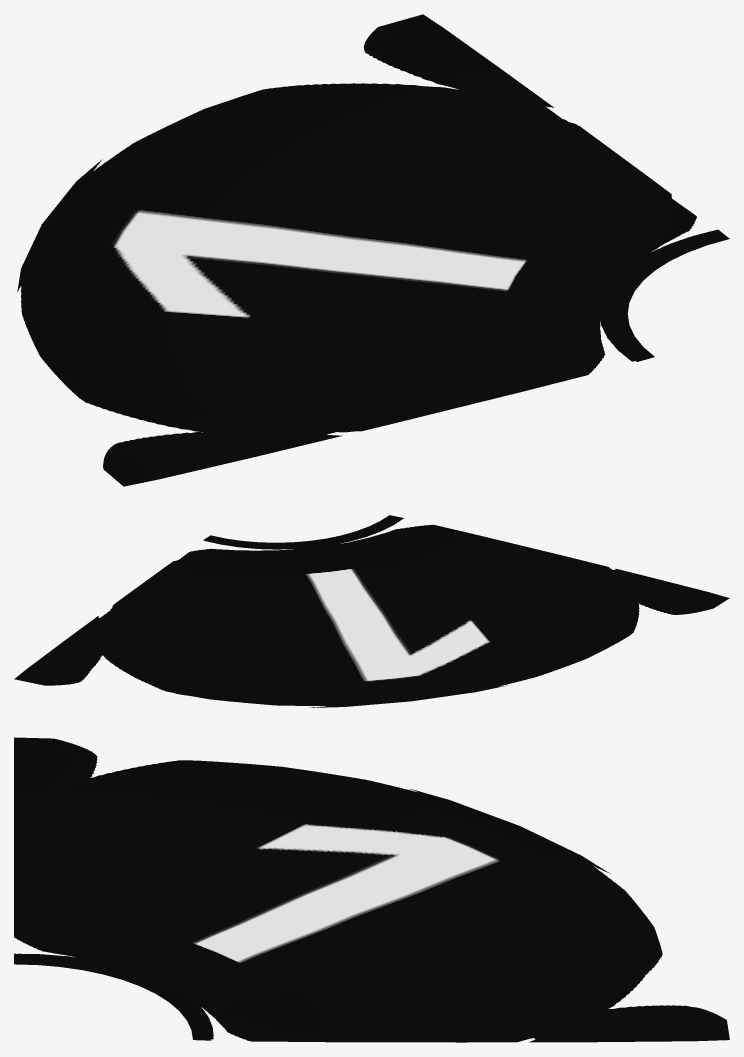
Rendered from Menu_1.fbx.
The picture shows the model from 3 angles, top to bottom: view 1: azimuth 30°, elevation 25°; view 2: azimuth 150°, elevation 25°; view 3: azimuth 270°, elevation 25°; orthographic projection. The views are drawn at different scales.
Visible parts, largest first — view 1: Menu; view 2: Menu; view 3: Menu.
Boxes of the visible parts, x1,y1,x2,y2 form: Menu: (17, 14, 729, 486); Menu: (14, 515, 729, 707); Menu: (14, 737, 729, 1042).
Bounding box in the file's own units: 160 × 1.2 × 160.
